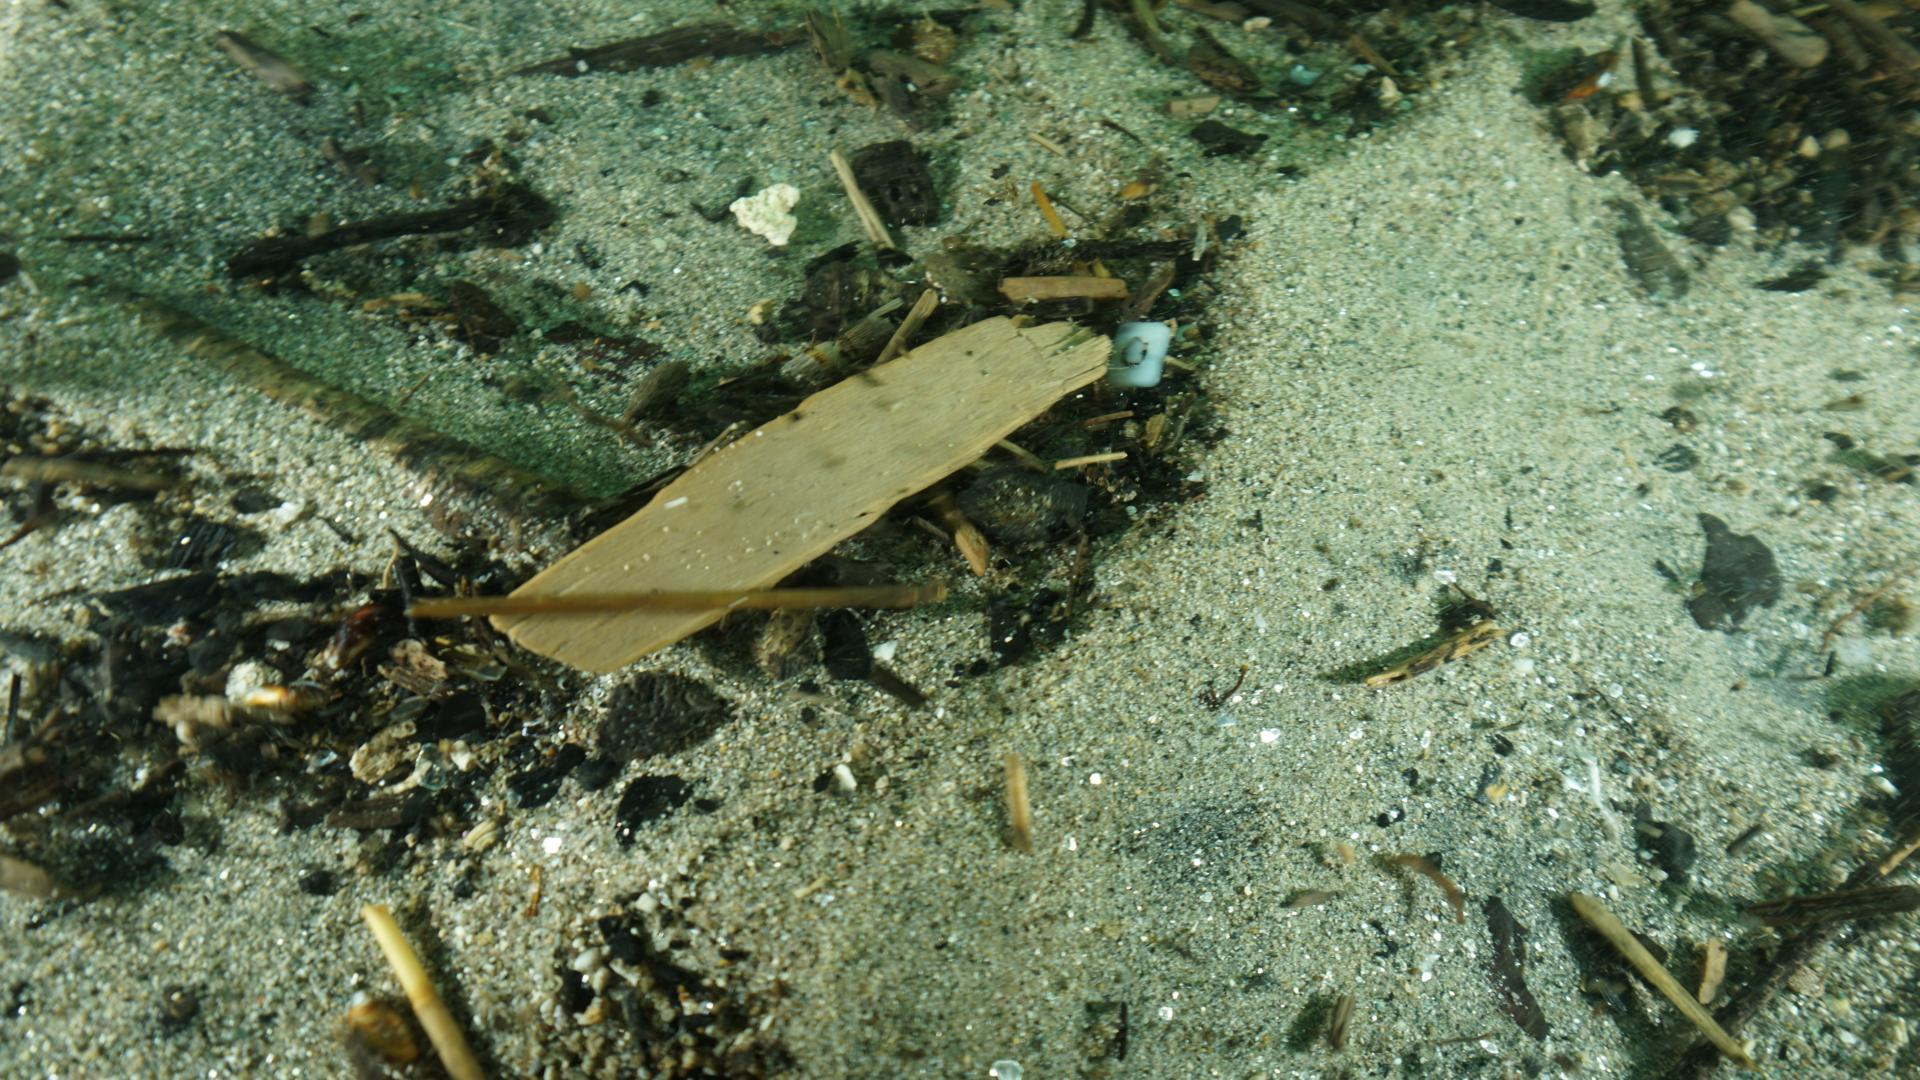wood: (487, 306, 1112, 678)
